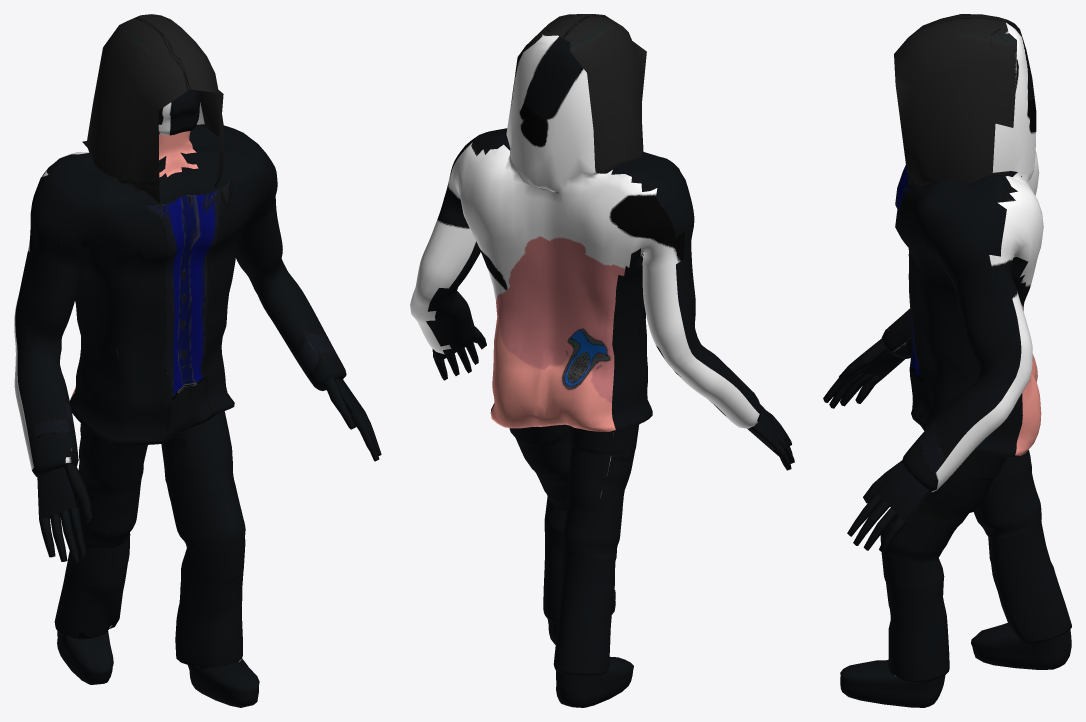
File: keyFrame07.obj
3 renders of one model, left to right at view 1: azimuth 30°, elevation 25°; view 2: azimuth 150°, elevation 25°; view 3: azimuth 270°, elevation 25°, orthographic. The views are drawn at different scales.
Parts seen in each view (by area): view 1: pasted__polySurface71 group4; view 2: pasted__polySurface71 group4; view 3: pasted__polySurface71 group4.
Boxes of the visible parts, left/top/right/bottom form: pasted__polySurface71 group4: left=14, top=14, right=381, bottom=707; pasted__polySurface71 group4: left=410, top=14, right=794, bottom=707; pasted__polySurface71 group4: left=823, top=14, right=1071, bottom=707.
Size of the model in its own units: 6.97 by 12.76 by 4.31.
Materials: 1 (1 with a texture image).
